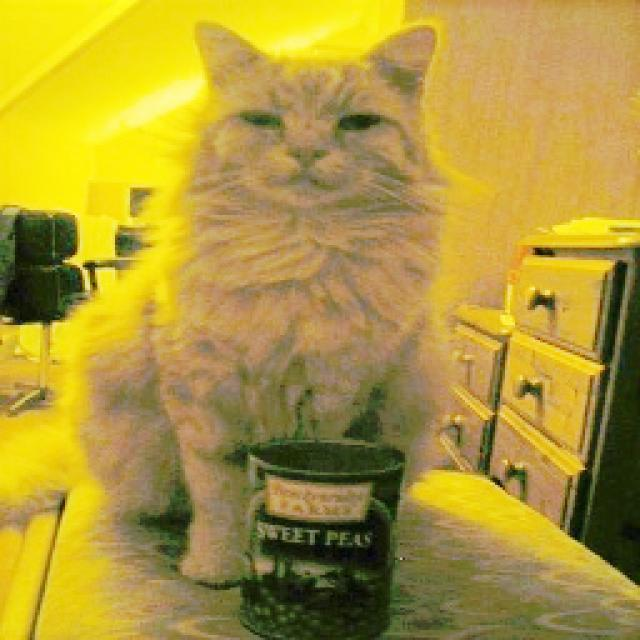cat: (0, 18, 453, 588)
